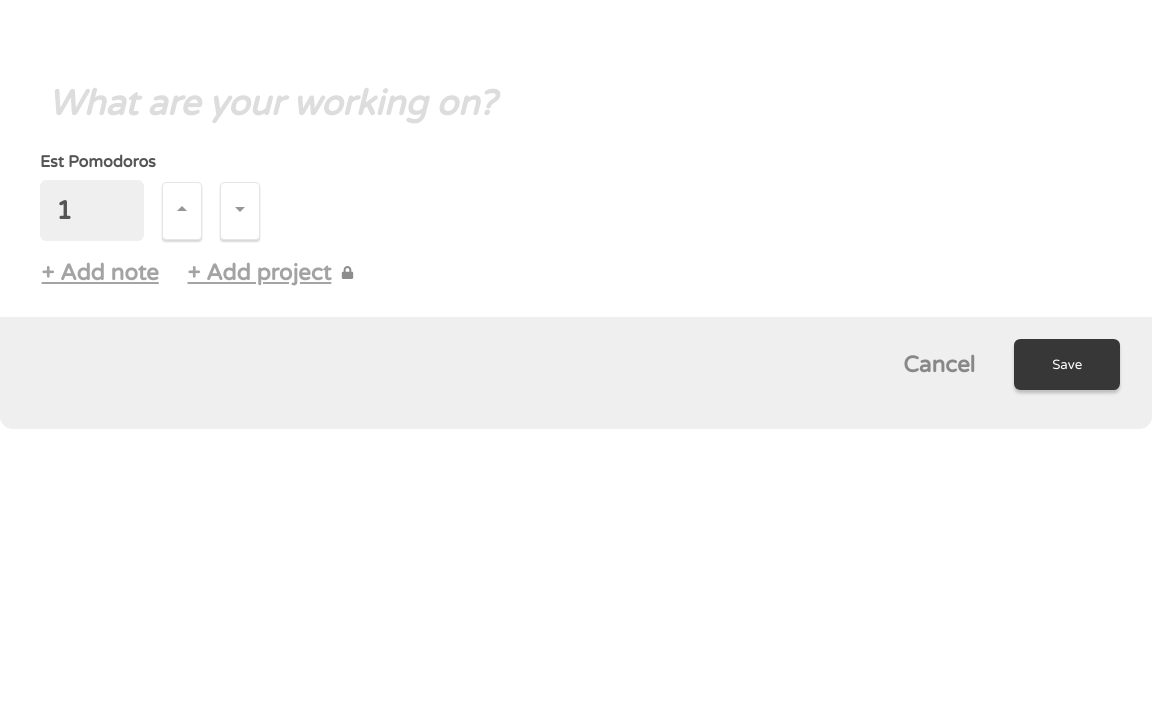
Scenario: <CardAddTask /> › should be able clean form after submit new task success
Type "Initial task" into the field with placeholder "What are your working on?" at [576, 104], box [32, 67, 1120, 141]
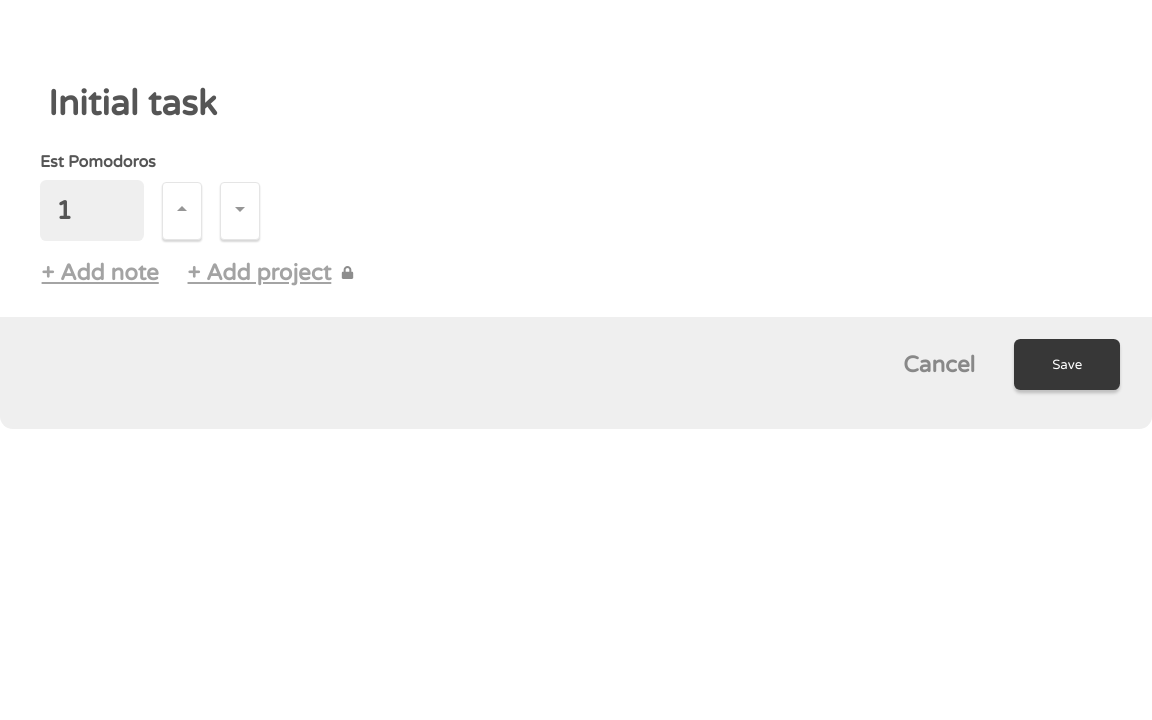
Click the button "+ Add note" at [105, 273], box [42, 259, 168, 286]
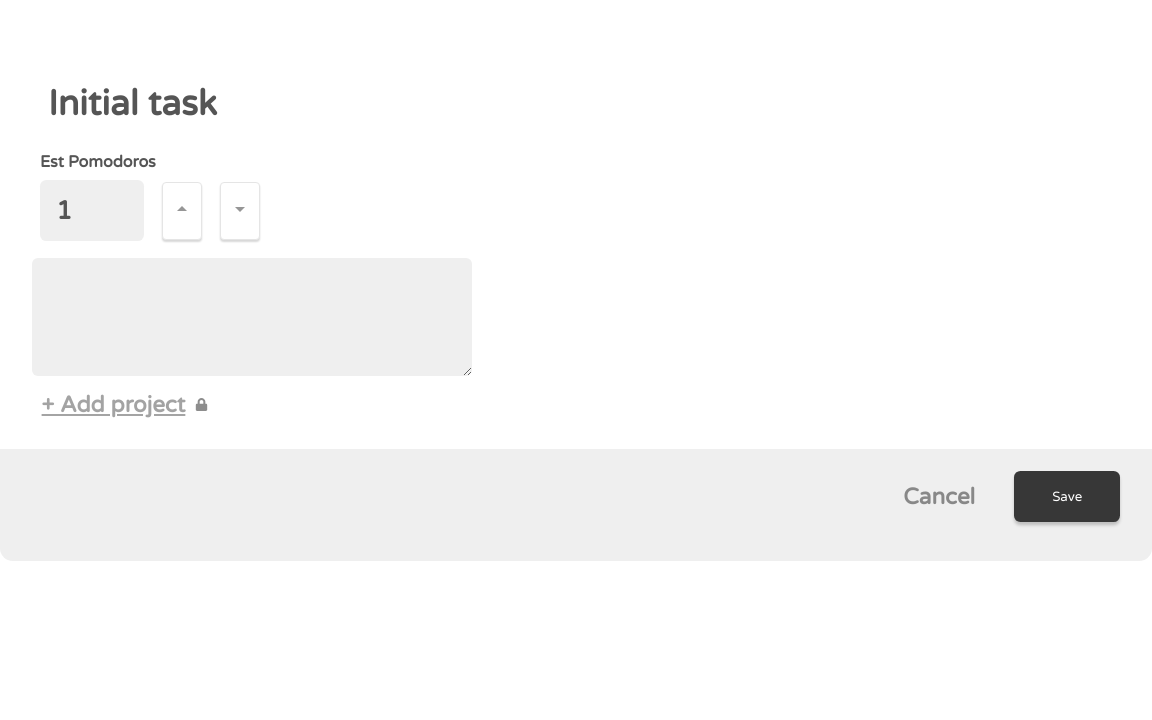
Click the button with test id "button-increment" at [182, 211], box [162, 182, 202, 240]
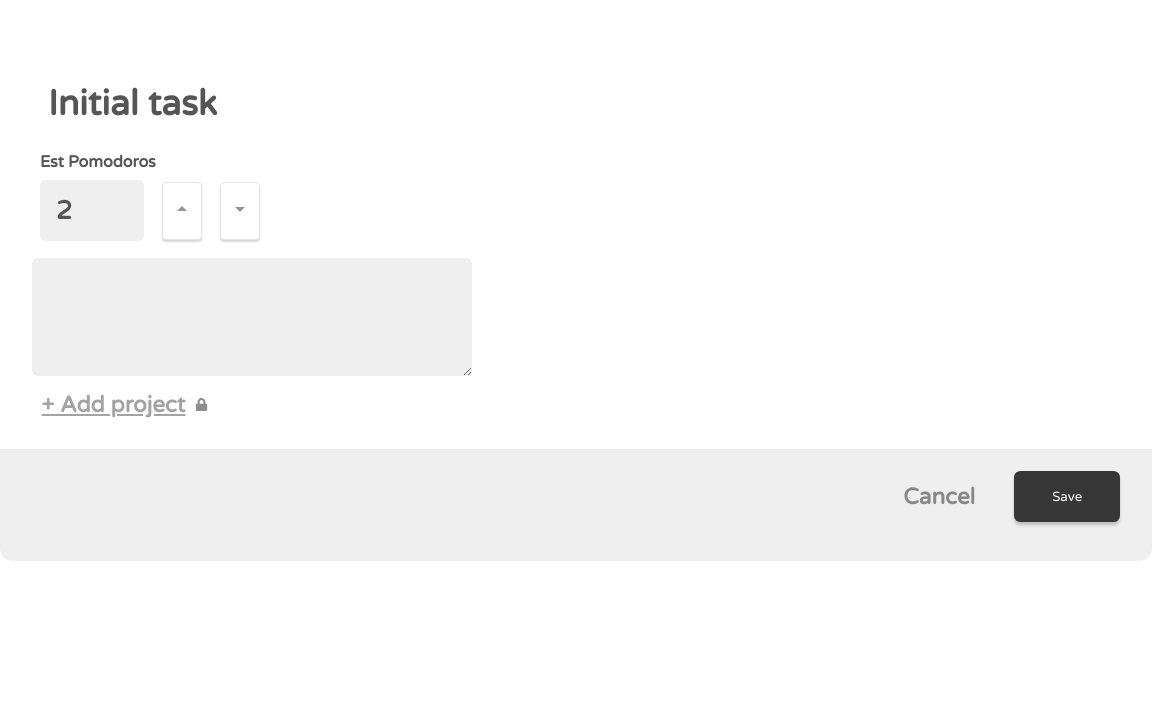
Type "Lorem ipsum" into the text box with test id "note-est-pomodoro" at [252, 317], box [32, 258, 472, 376]
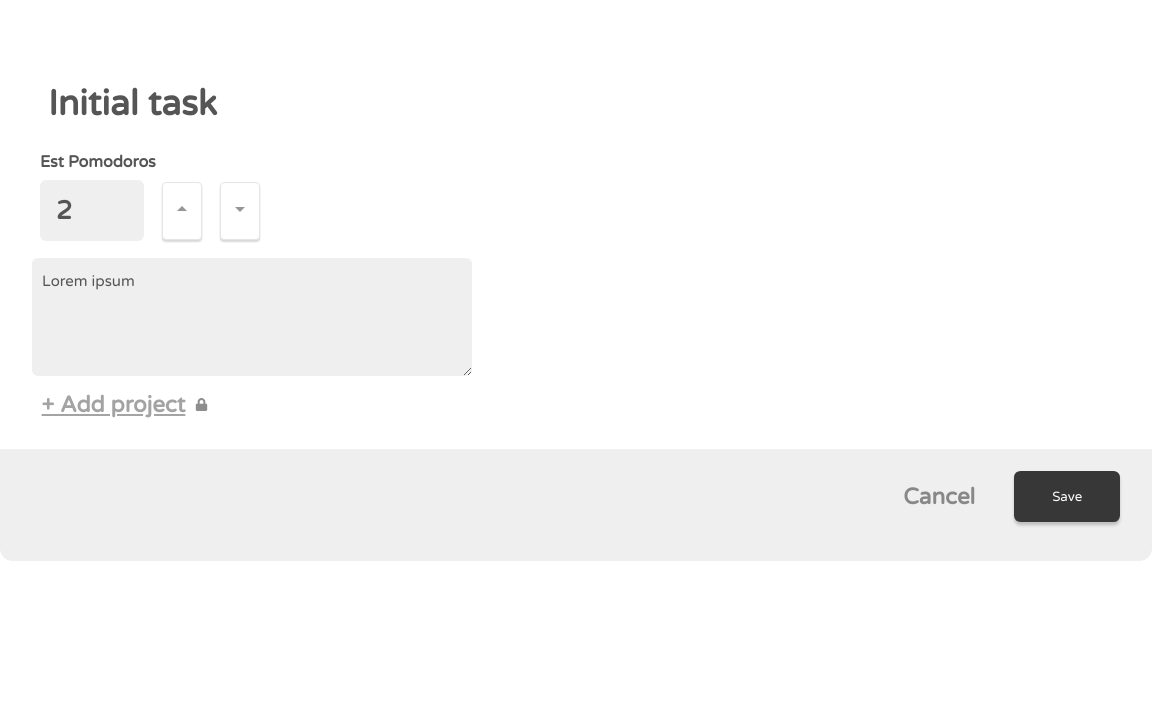
Click the button "Save" at [1067, 497], box [1014, 471, 1120, 522]
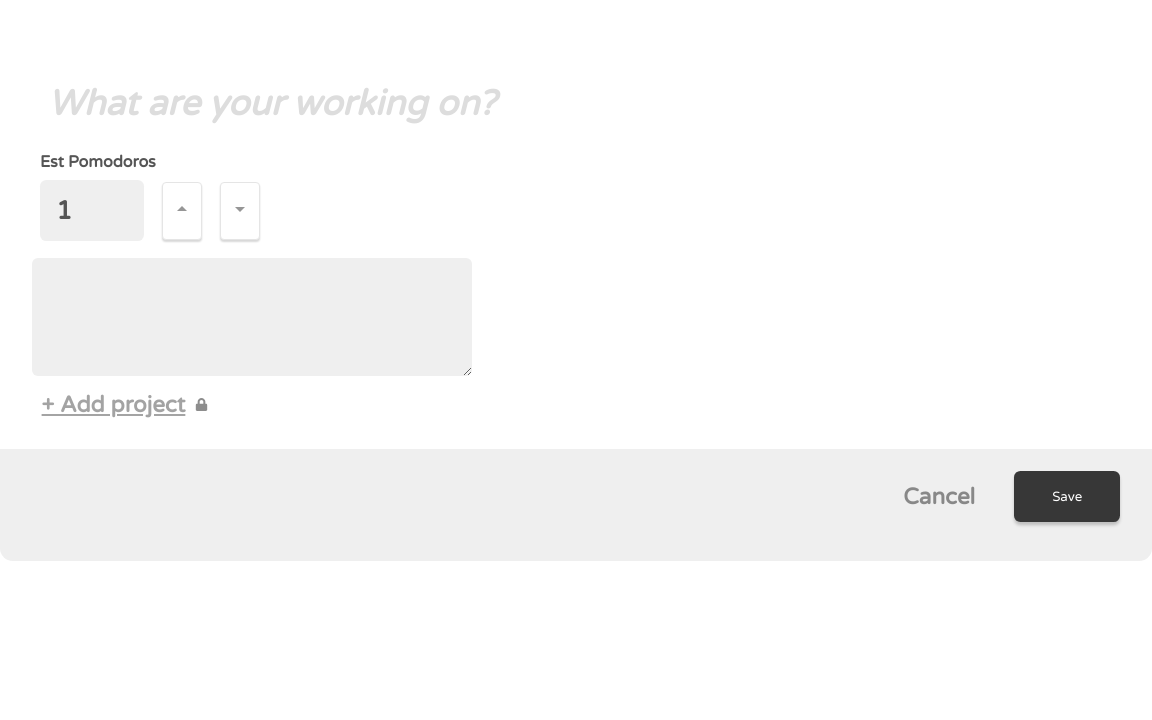
Check: the field with placeholder "What are your working on?" is empty, box [32, 67, 1120, 141]
Check: the text box with test id "note-est-pomodoro" is empty, box [32, 258, 472, 376]
Check: the number field with test id "input-counter" holds "1", box [40, 180, 144, 241]
